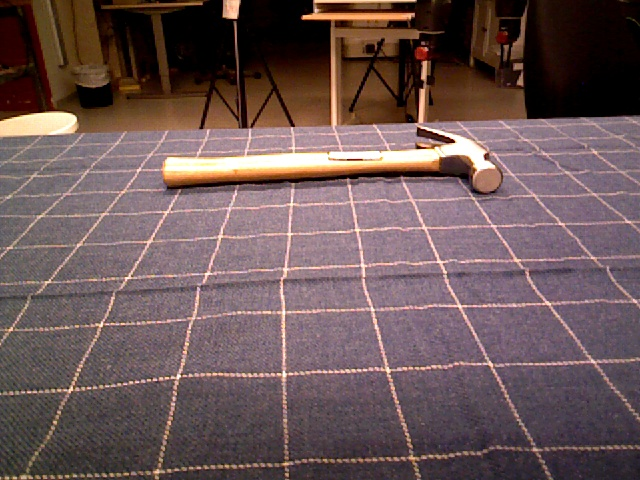hammer1: (160, 123, 504, 198)
